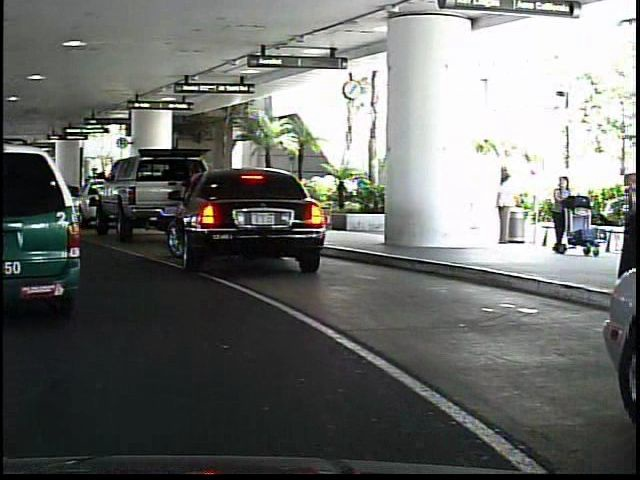person: (547, 172, 572, 256)
